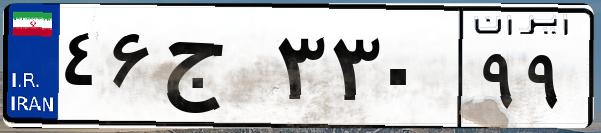0: (385, 28, 445, 110)
3: (270, 28, 330, 110), (330, 28, 385, 110)
4: (57, 26, 110, 100)
6: (110, 28, 158, 98)
9: (475, 38, 525, 113), (525, 38, 570, 115)
ج: (158, 20, 270, 120)
